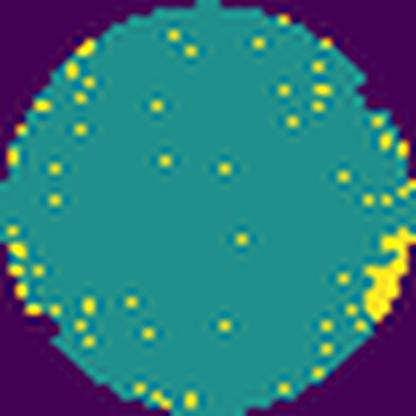Edge-Loc: (355, 224, 415, 330)
